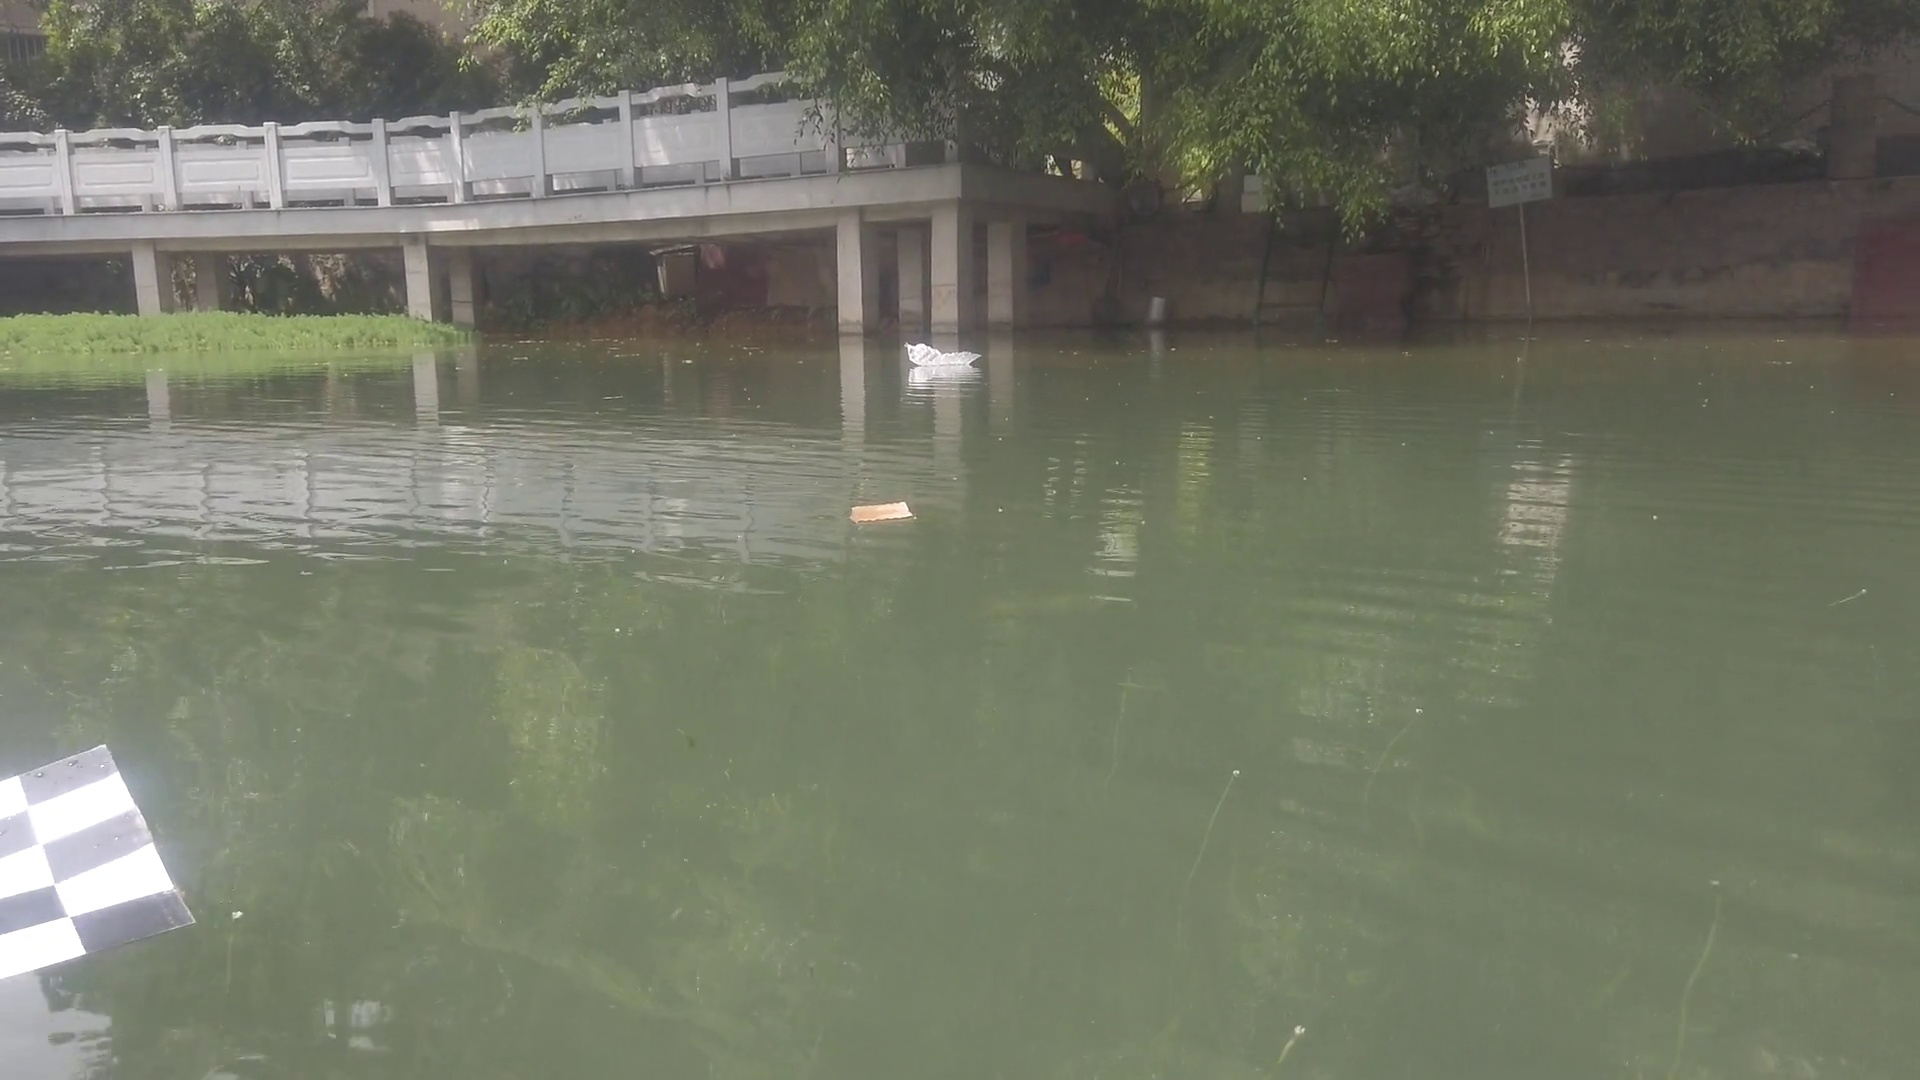paper: (1, 735, 203, 986), (851, 498, 914, 524)
plastic: (905, 339, 985, 369)
